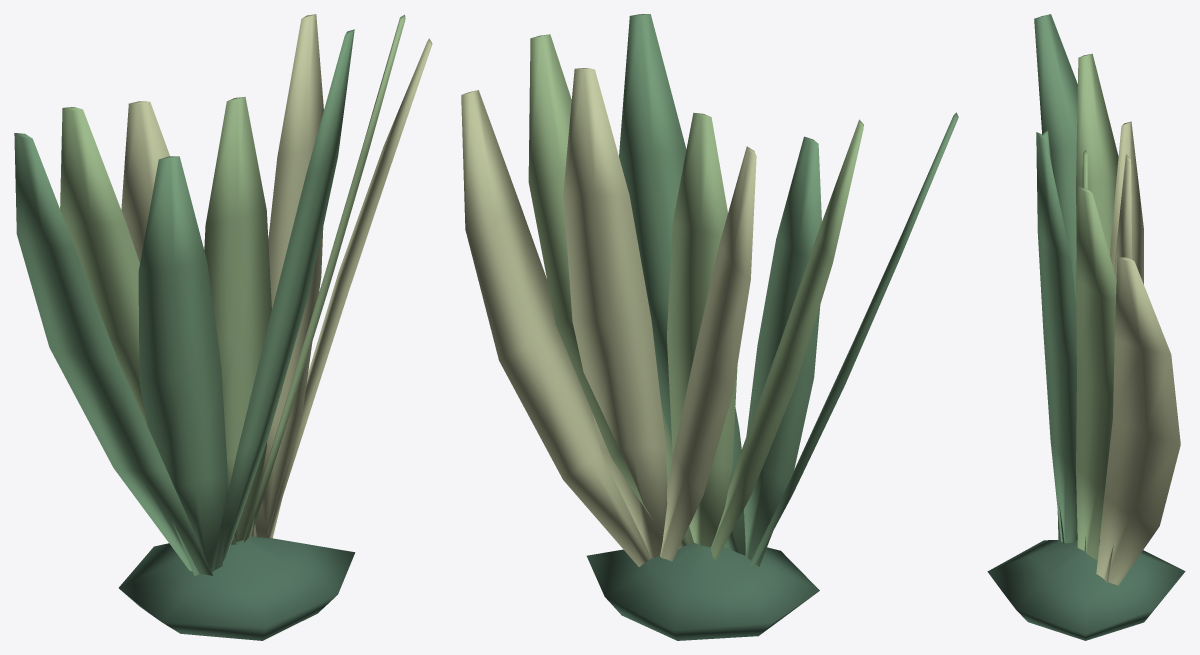
The model's file is grass_fan.glb.
3 views of the same model, side by side, from view 1: azimuth 30°, elevation 25°; view 2: azimuth 150°, elevation 25°; view 3: azimuth 270°, elevation 25° (orthographic). The views are drawn at different scales.
Parts seen in each view (by area): view 1: grass_fan; view 2: grass_fan; view 3: grass_fan.
Part boxes in pixels (left/top/right/bottom): grass_fan: left=14, top=14, right=432, bottom=640; grass_fan: left=461, top=14, right=958, bottom=640; grass_fan: left=987, top=14, right=1185, bottom=640.
Size of the model in its own units: 0.4946 by 0.58 by 0.2068.
